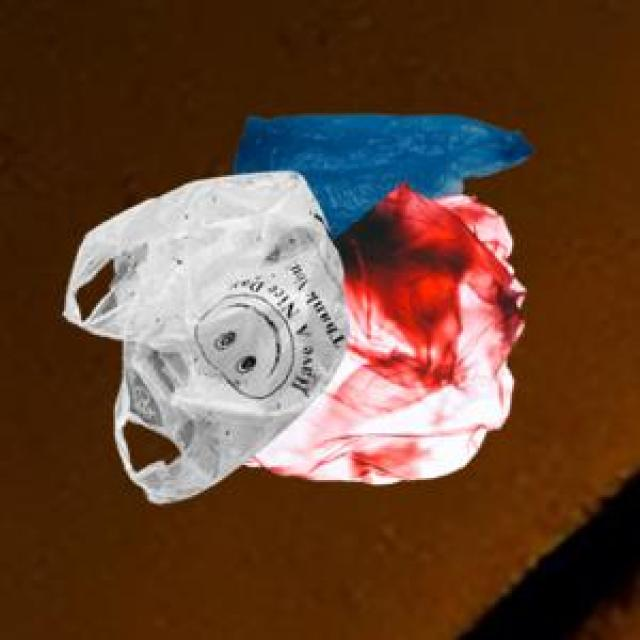plastic: (61, 93, 577, 564)
